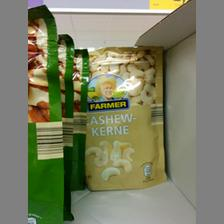Nuss: (82, 46, 168, 190)
